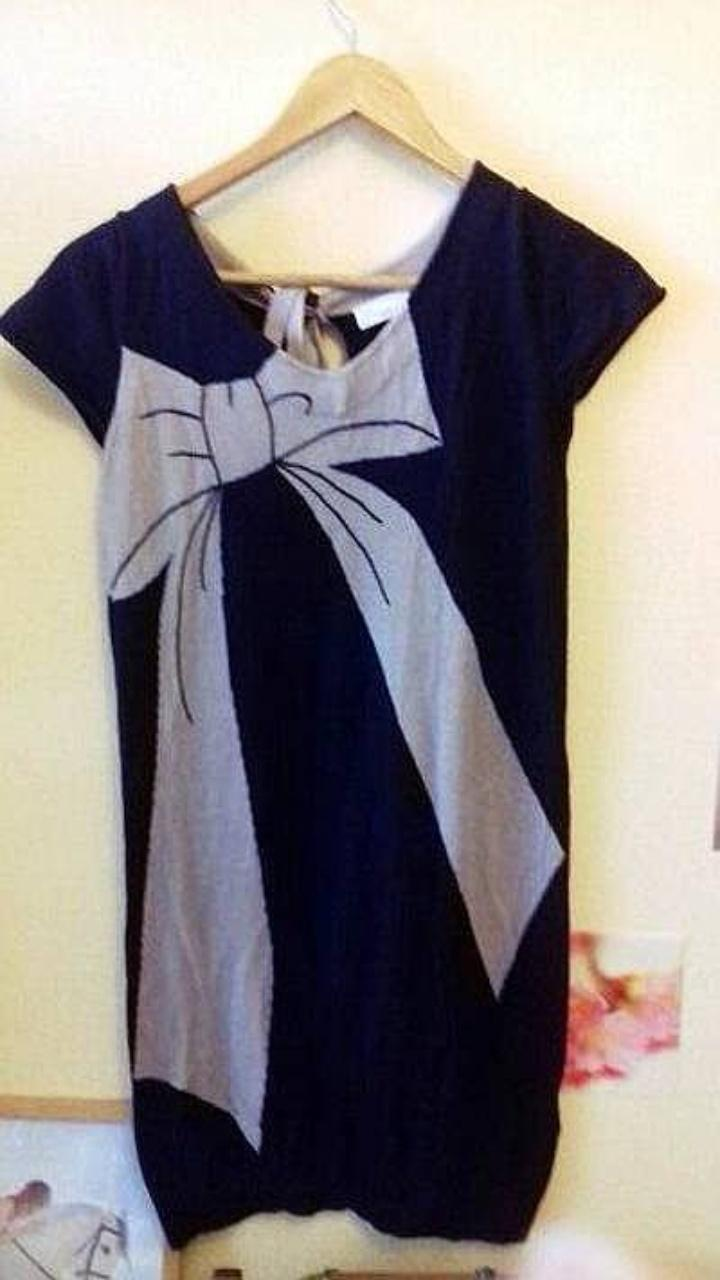T-Shirt: (0, 159, 664, 1246)
